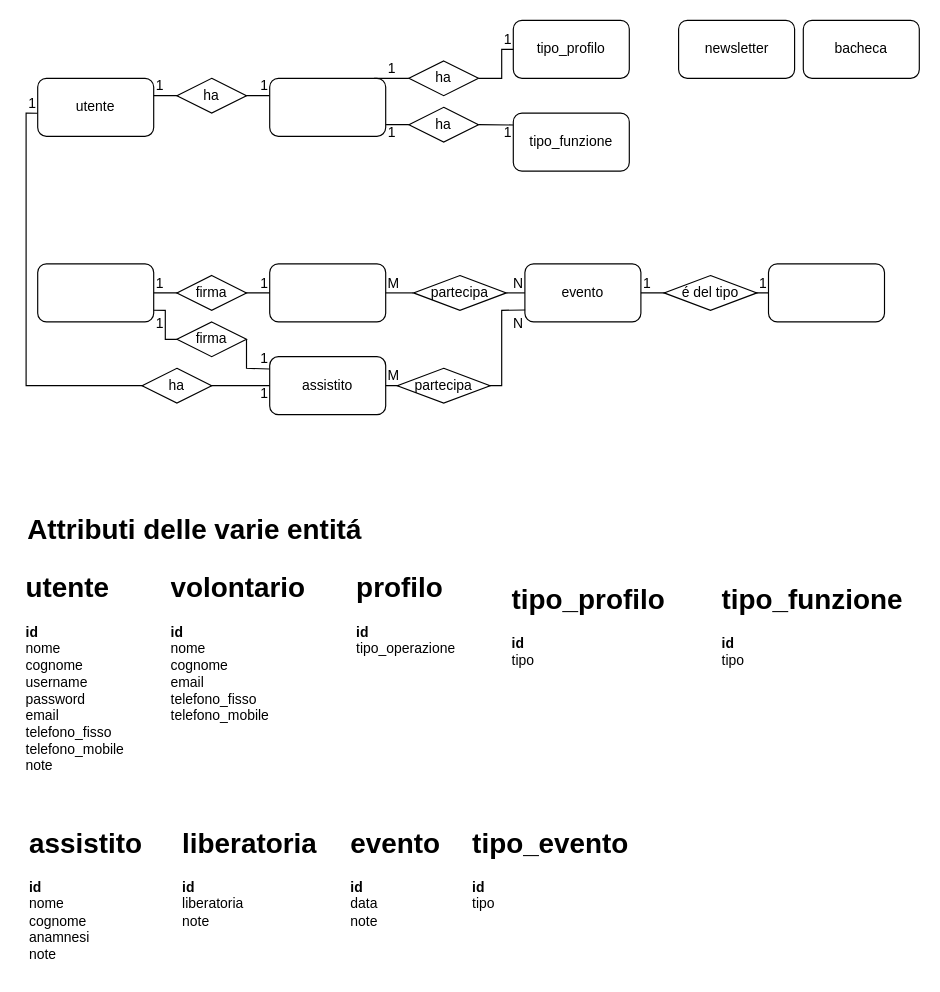
Image size: 940x992. Some labels were removed from this diagram. The centre of each missing label's shape, as x and y in pixels:
"liberatoria" belongs at point 95,292.
"profilo" belongs at point 327,106.
"tipo_evento" belongs at point 825,292.
"volontario" belongs at point 327,292.
